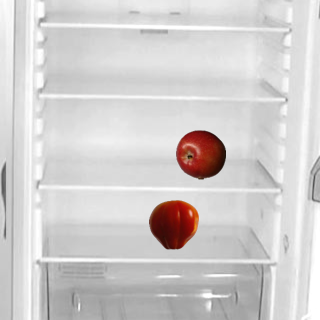Apple Braeburn: (175, 129, 225, 179)
Tomato 1: (148, 199, 198, 249)
